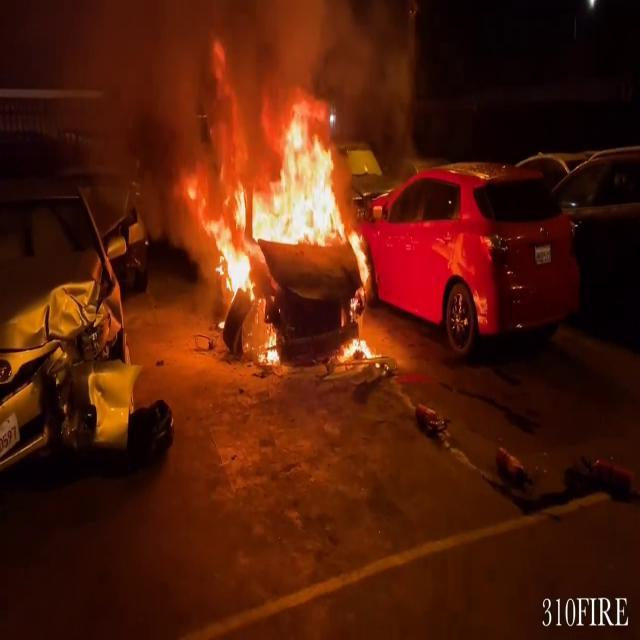Fire: (199, 91, 373, 356), (334, 328, 381, 366)
Smoke: (13, 0, 434, 134)
